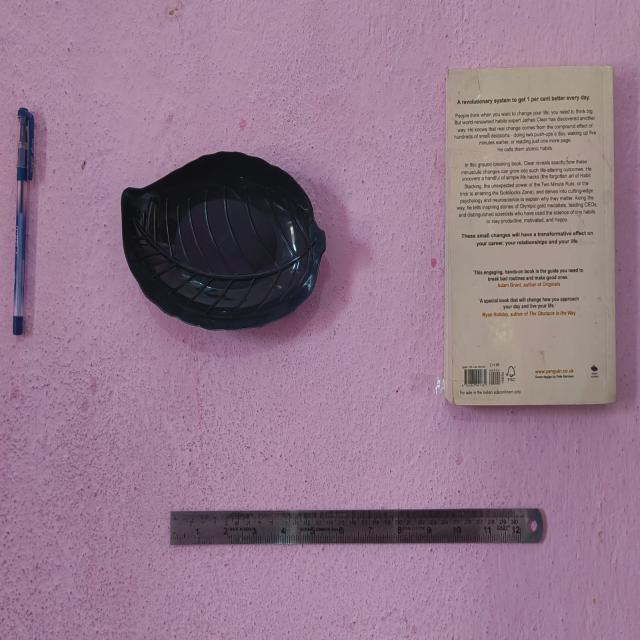Book: (438, 61, 619, 411)
pen: (9, 105, 36, 339)
plate: (117, 151, 330, 330)
scale: (166, 502, 550, 552)
